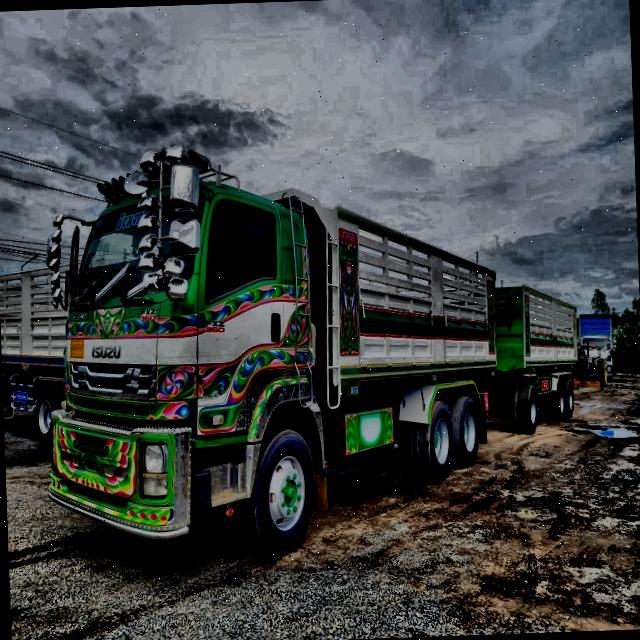trailer: (34, 124, 588, 572)
